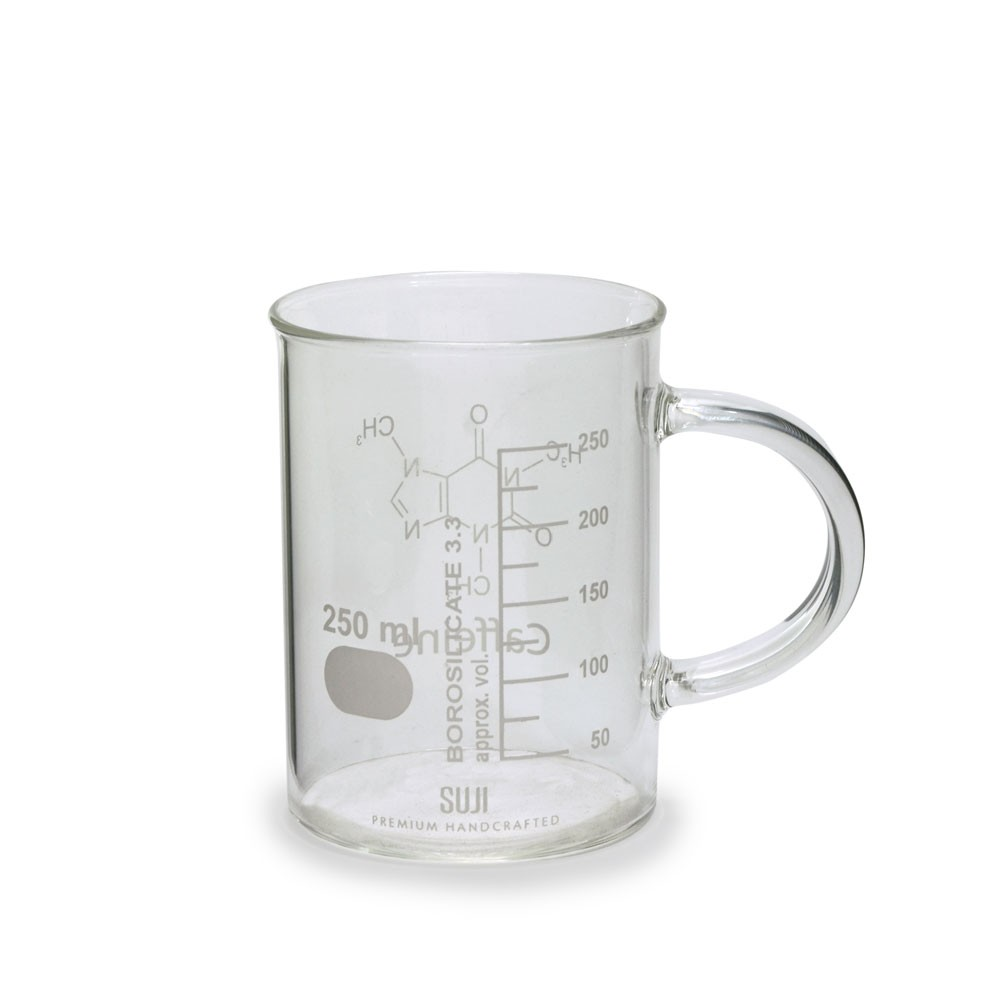gelas: (267, 268, 864, 874)
